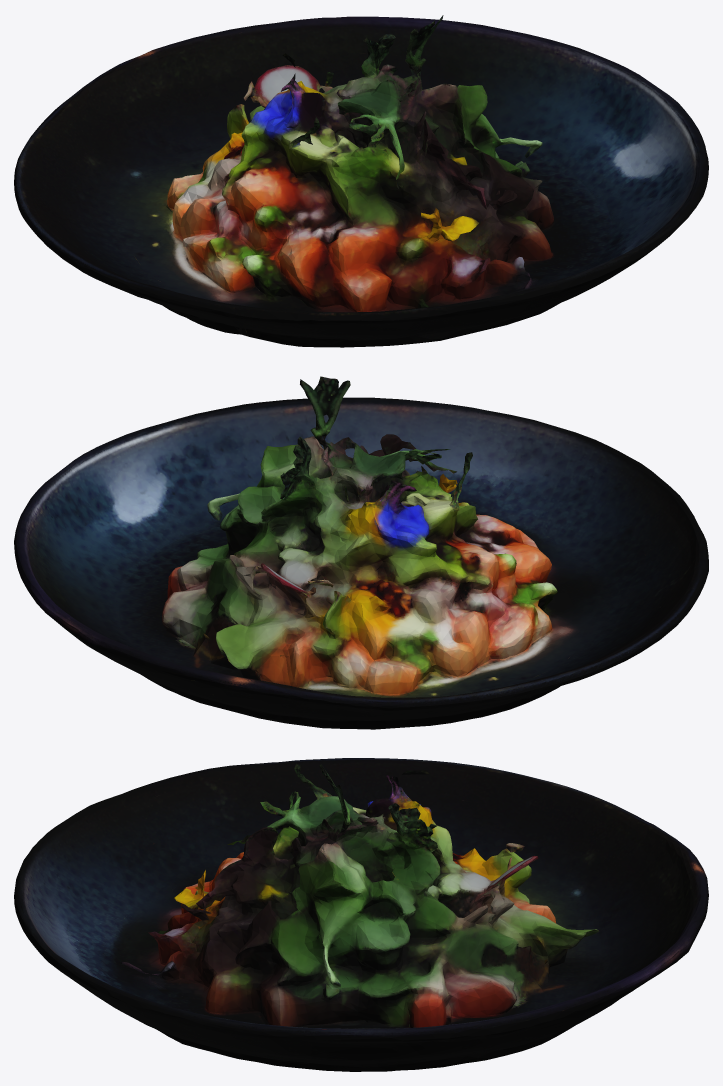
The model's file is tartar-nikkei.glb.
3 views of the same model, one above another, from view 1: azimuth 30°, elevation 25°; view 2: azimuth 150°, elevation 25°; view 3: azimuth 270°, elevation 25° (orthographic).
Parts seen in each view (by area): view 1: world; view 2: world; view 3: world.
Boxes of the visible parts, left/top/right/bottom form: world: left=14, top=15, right=708, bottom=347; world: left=14, top=376, right=708, bottom=729; world: left=14, top=758, right=708, bottom=1071.
Bounding box in the file's own units: 1 × 0.3495 × 1.
1 material, 1 textured.
